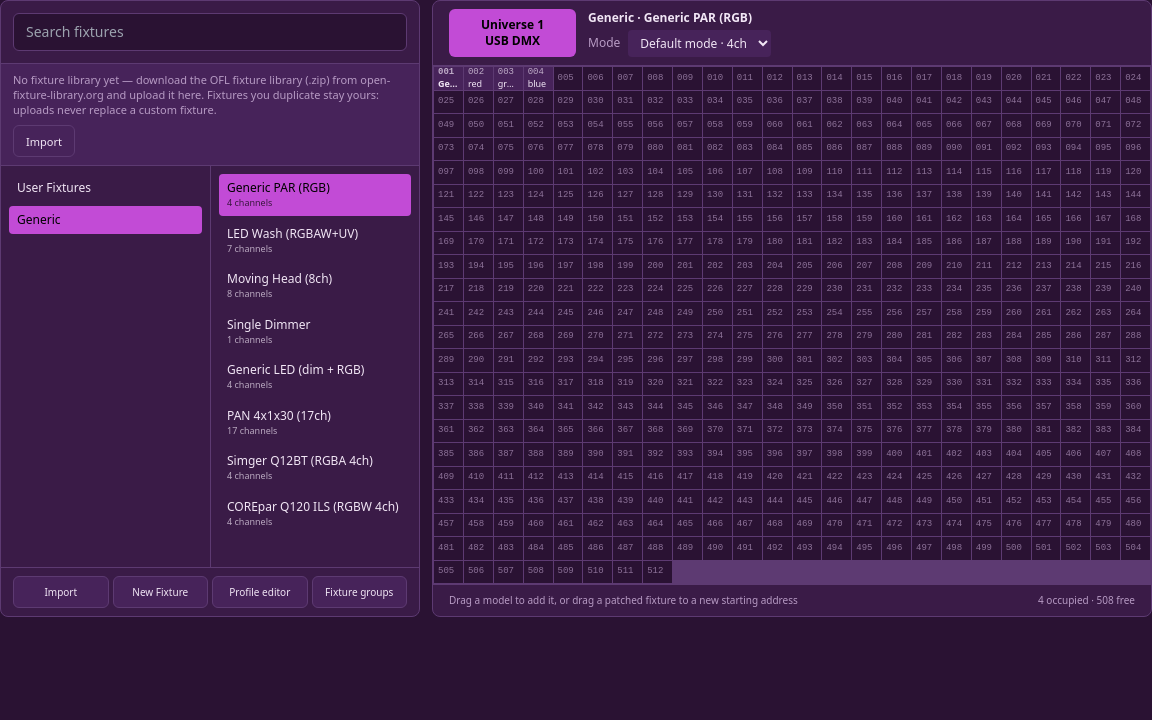
it: PatchPanel fixture library › double-clicking a patched fixture reopens the patch dialog in edit mode
Double-click the button "001 Generic PAR (RGB)" at (448, 78), box top-left (434, 67), bottom-right (463, 90)
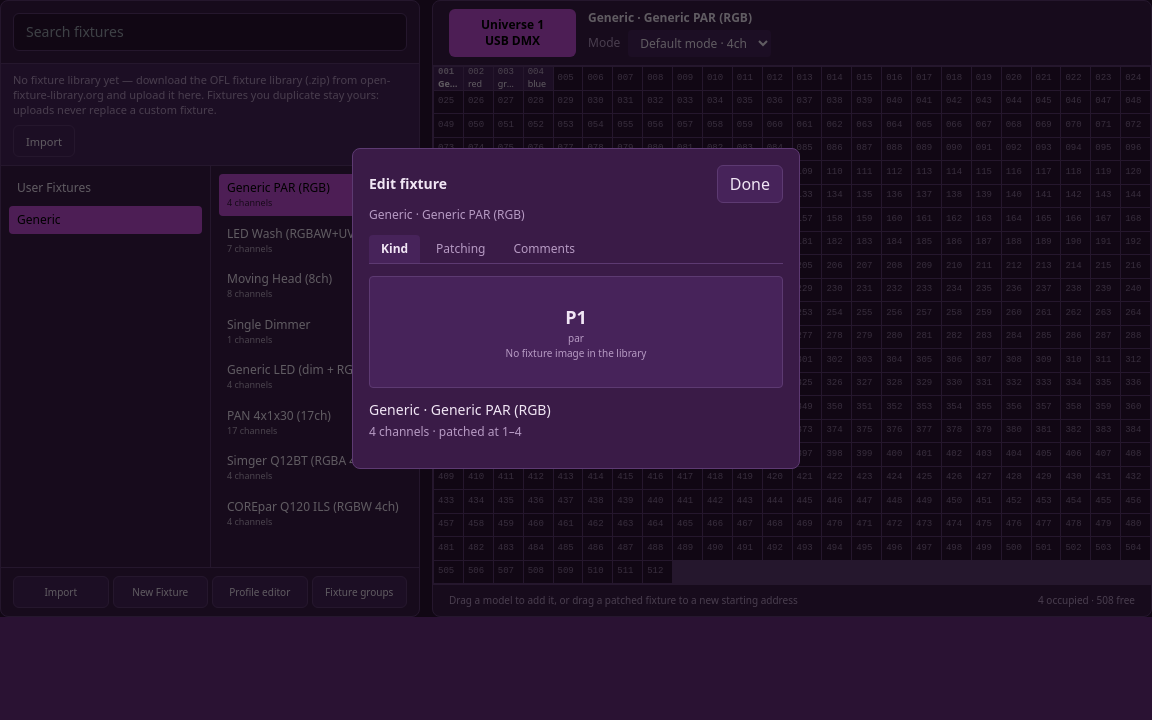
Expected: the text "Edit fixture" is shown, top-left (369, 174), bottom-right (447, 194)
